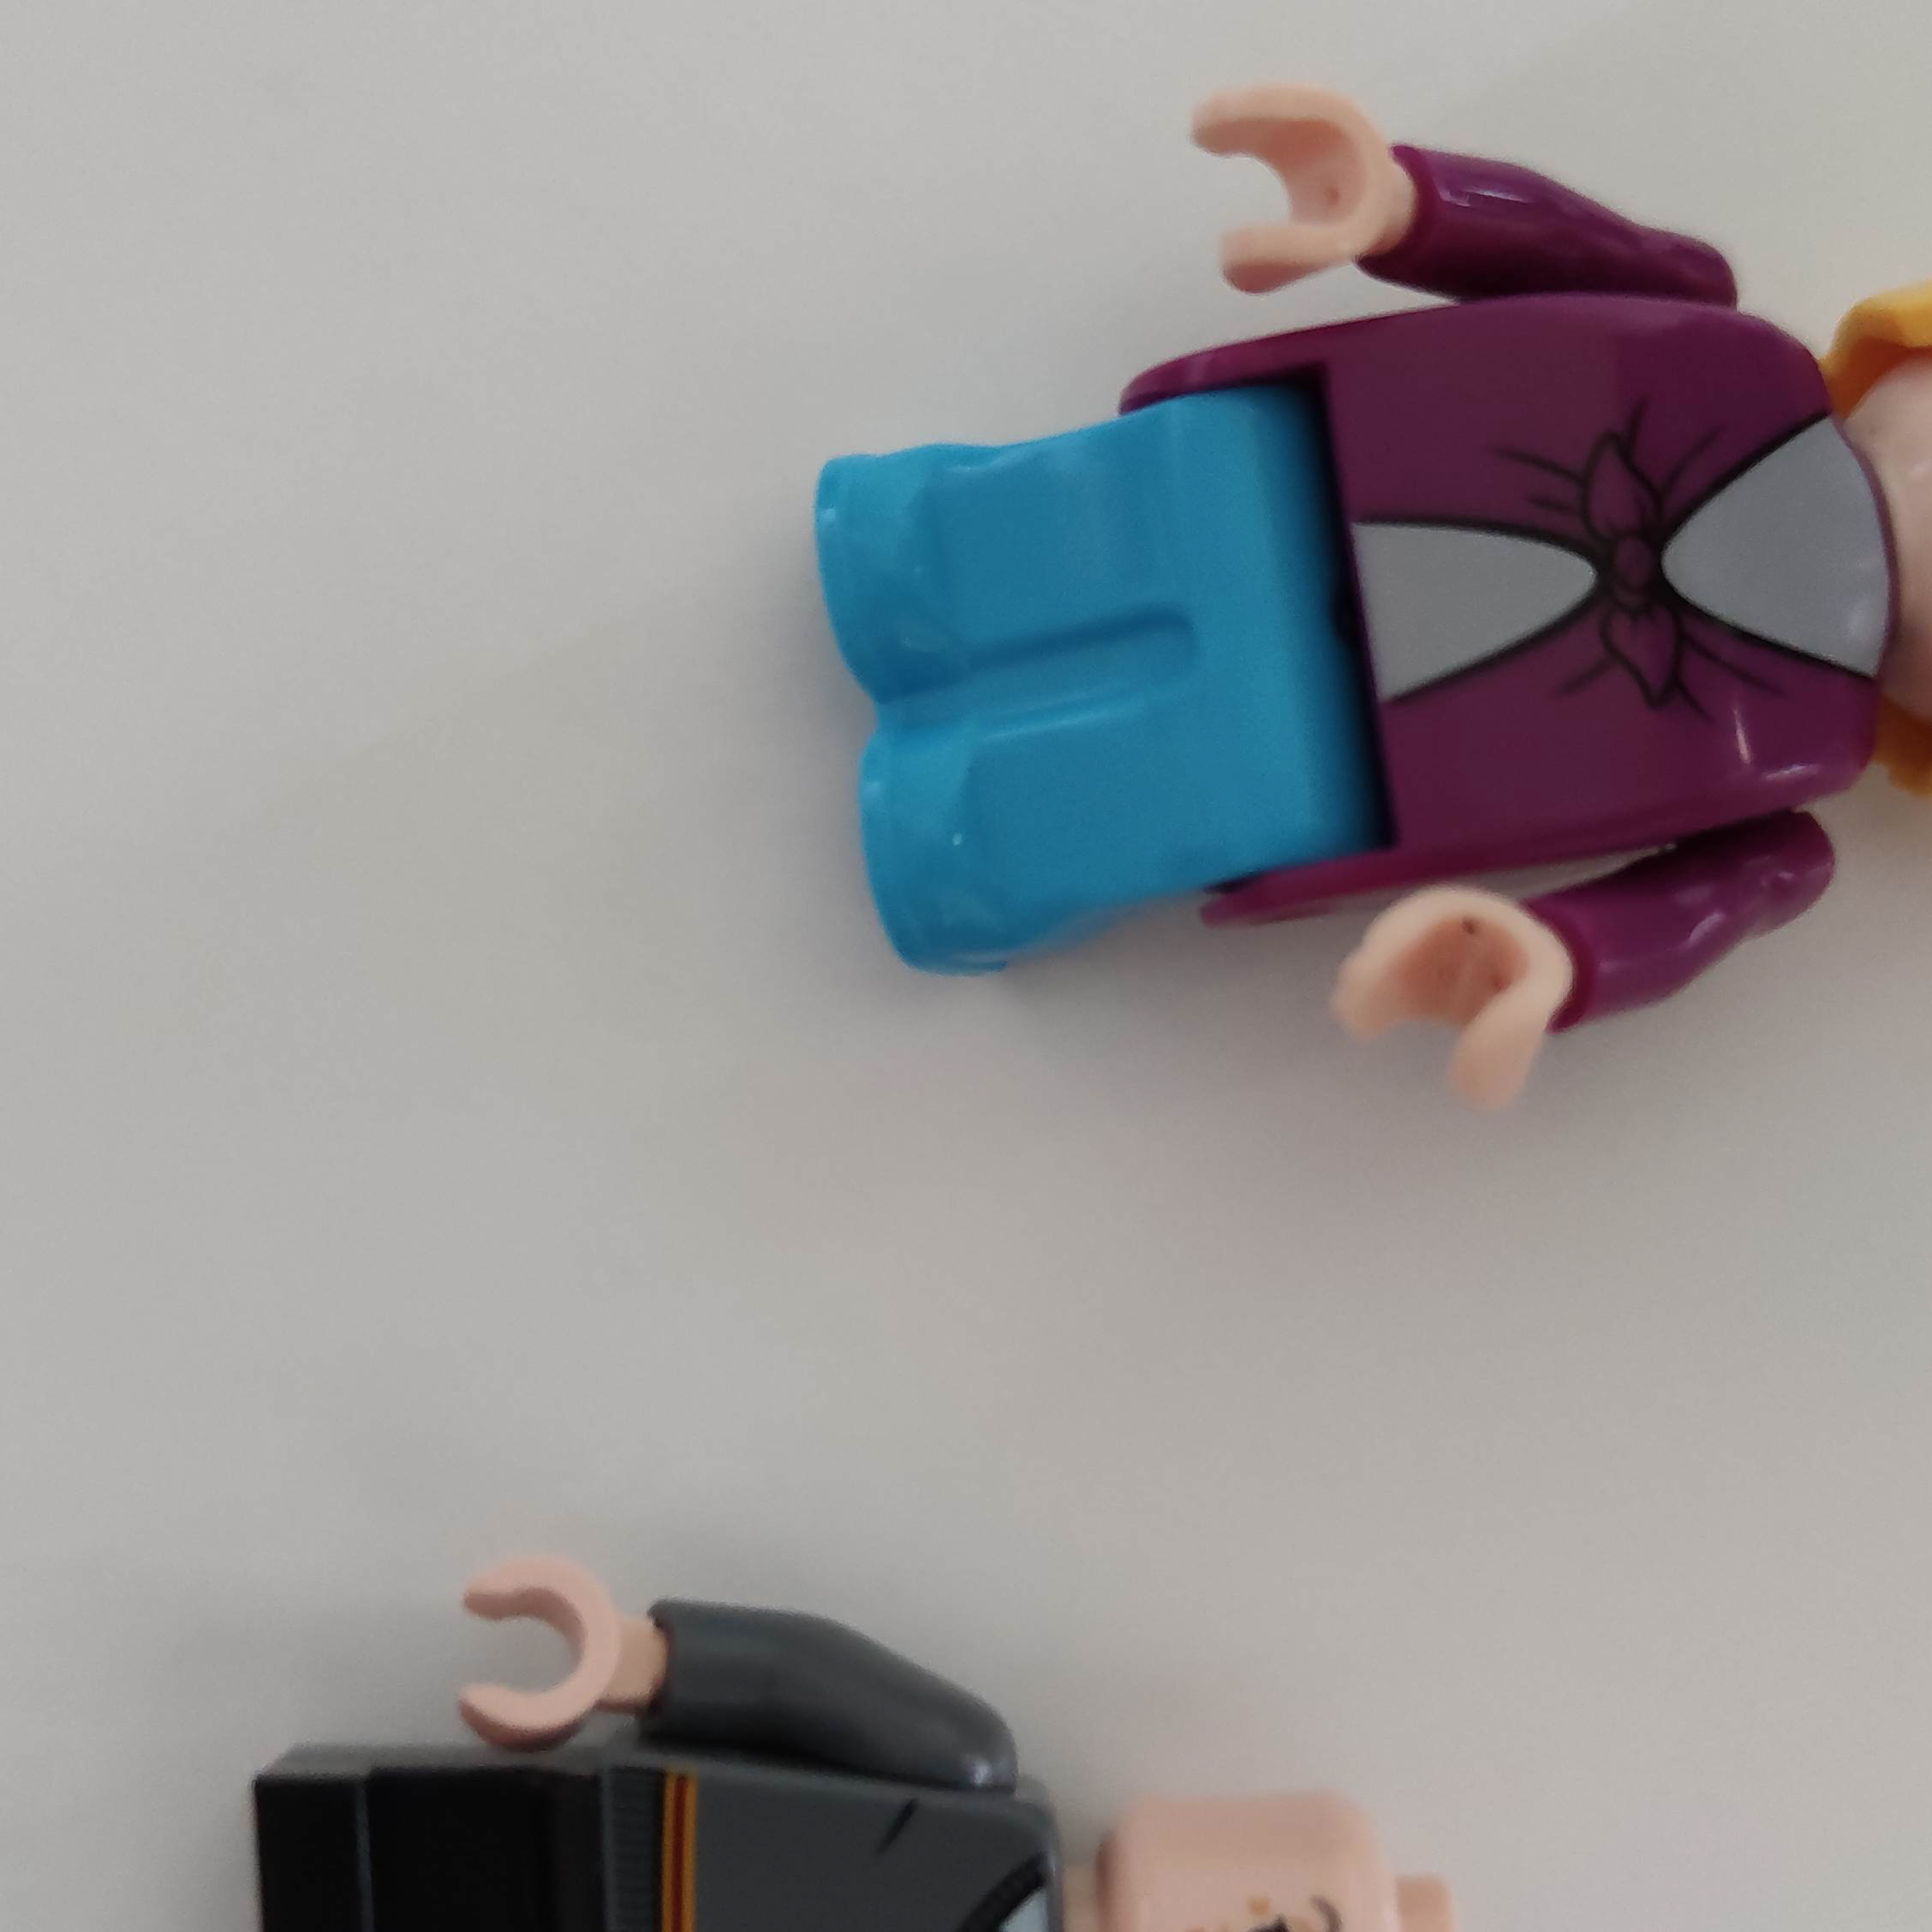lego: (812, 92, 1932, 1113), (260, 1555, 1435, 1932)
